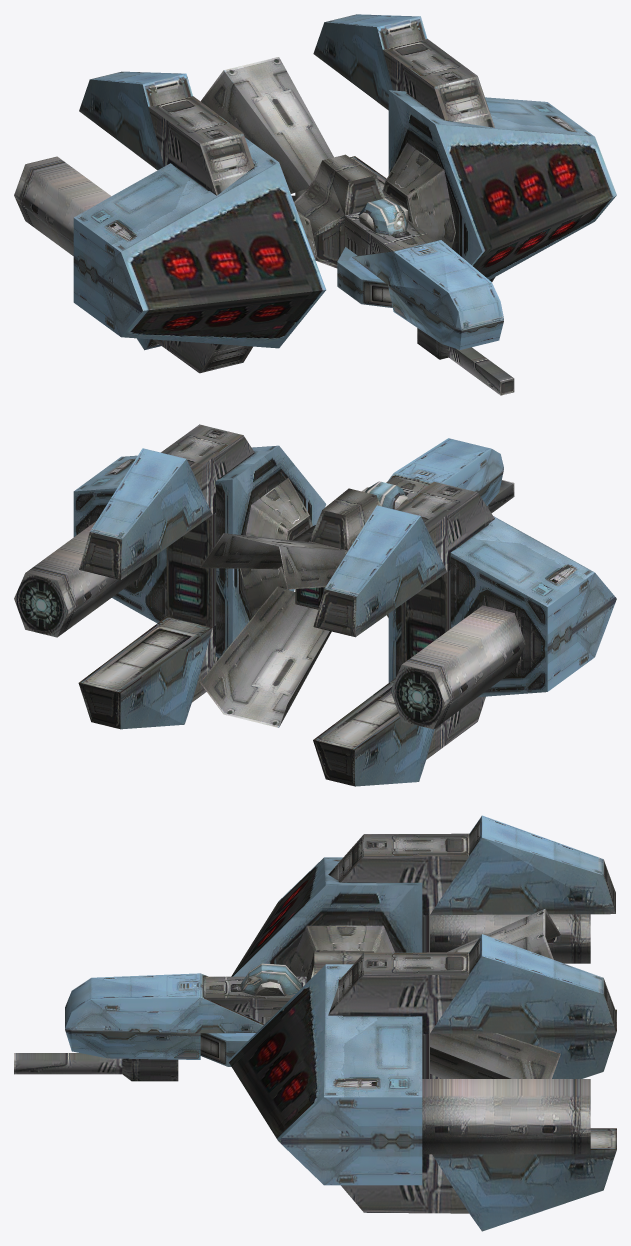
Rendered from Venomian Interceptor.obj.
3 renders of one model, top to bottom at view 1: azimuth 30°, elevation 25°; view 2: azimuth 150°, elevation 25°; view 3: azimuth 270°, elevation 25°, orthographic. The views are drawn at different scales.
Visible parts, largest first — view 1: Mesh_0065, Mesh_0068; view 2: Mesh_0065, Mesh_0068; view 3: Mesh_0065, Mesh_0068.
Boxes of the visible parts, bbox=[...] form: Mesh_0065: bbox=[14, 14, 616, 395]; Mesh_0068: bbox=[200, 57, 333, 201]; Mesh_0065: bbox=[14, 424, 616, 786]; Mesh_0068: bbox=[200, 533, 345, 727]; Mesh_0065: bbox=[14, 815, 616, 1231]; Mesh_0068: bbox=[430, 908, 560, 1078].
Bounding box in the file's own units: 8.9 × 4.78 × 9.46.
1 material, 1 textured.
